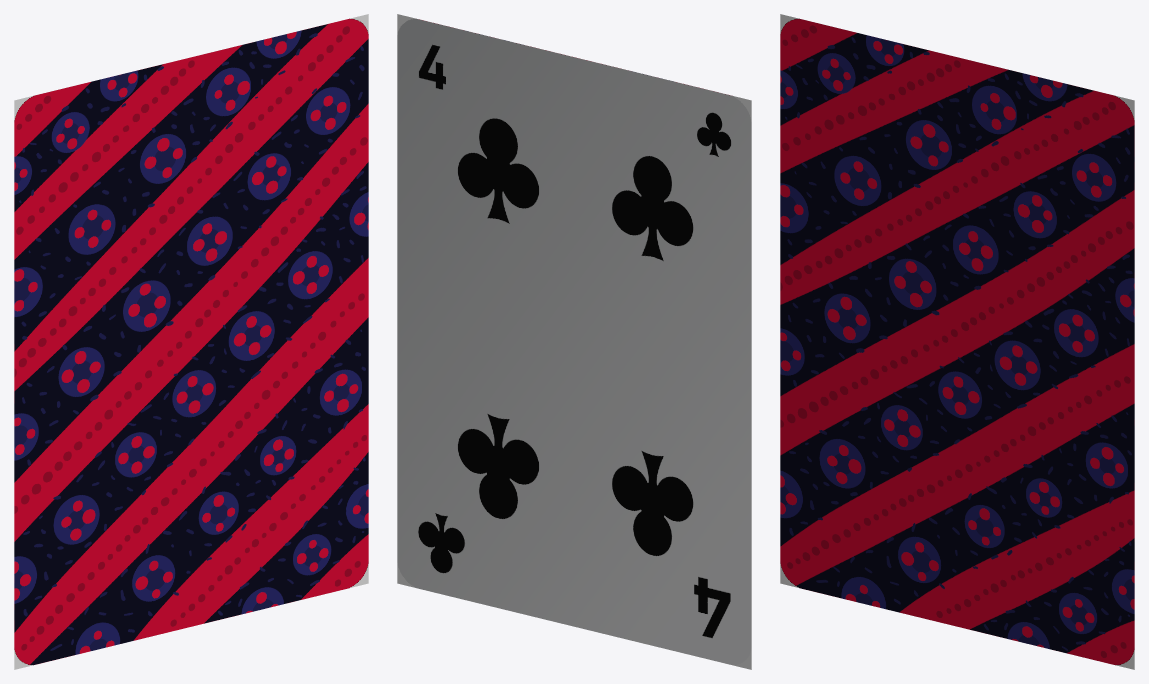
File: 4 Club.fbx
3 renders of one model, left to right at view 1: azimuth 30°, elevation 25°; view 2: azimuth 150°, elevation 25°; view 3: azimuth 330°, elevation 25°, orthographic.
Parts seen in each view (by area): view 1: pPlane1; view 2: pPlane2; view 3: pPlane1.
Boxes of the visible parts, x1=… form: pPlane1: x1=14, y1=14, x2=368, y2=669; pPlane2: x1=397, y1=14, x2=751, y2=669; pPlane1: x1=780, y1=14, x2=1134, y2=669.
Bounding box in the file's own units: 2.15 × 3.3 × 0.001.
Materials: 2 (2 with a texture image).
